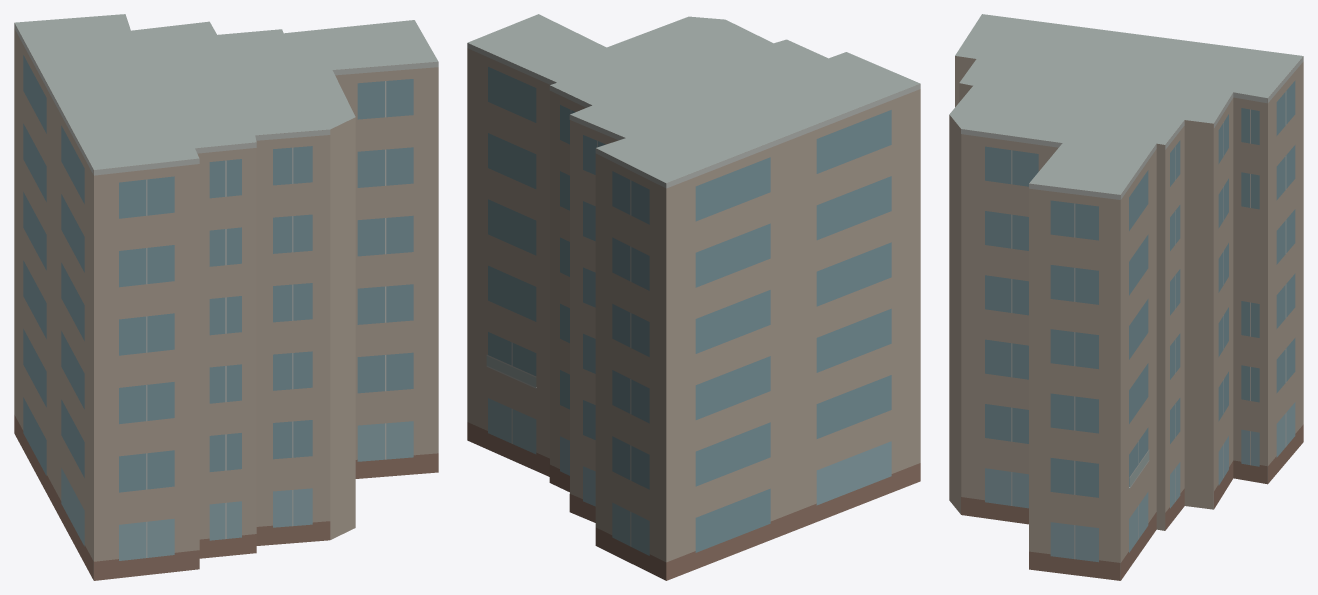
The model's file is survey-upis-33003256.glb.
3 renders of one model, left to right at view 1: azimuth 30°, elevation 25°; view 2: azimuth 150°, elevation 25°; view 3: azimuth 270°, elevation 25°, orthographic. The views are drawn at different scales.
Visible parts, largest first — view 1: survey-upis-33003256.tmp; view 2: survey-upis-33003256.tmp; view 3: survey-upis-33003256.tmp.
Part boxes in pixels (<box>): survey-upis-33003256.tmp: <box>14,14,438,580</box>; survey-upis-33003256.tmp: <box>467,14,920,580</box>; survey-upis-33003256.tmp: <box>949,14,1303,580</box>.
Size of the model in its own units: 18.4 by 18.3 by 15.24.
